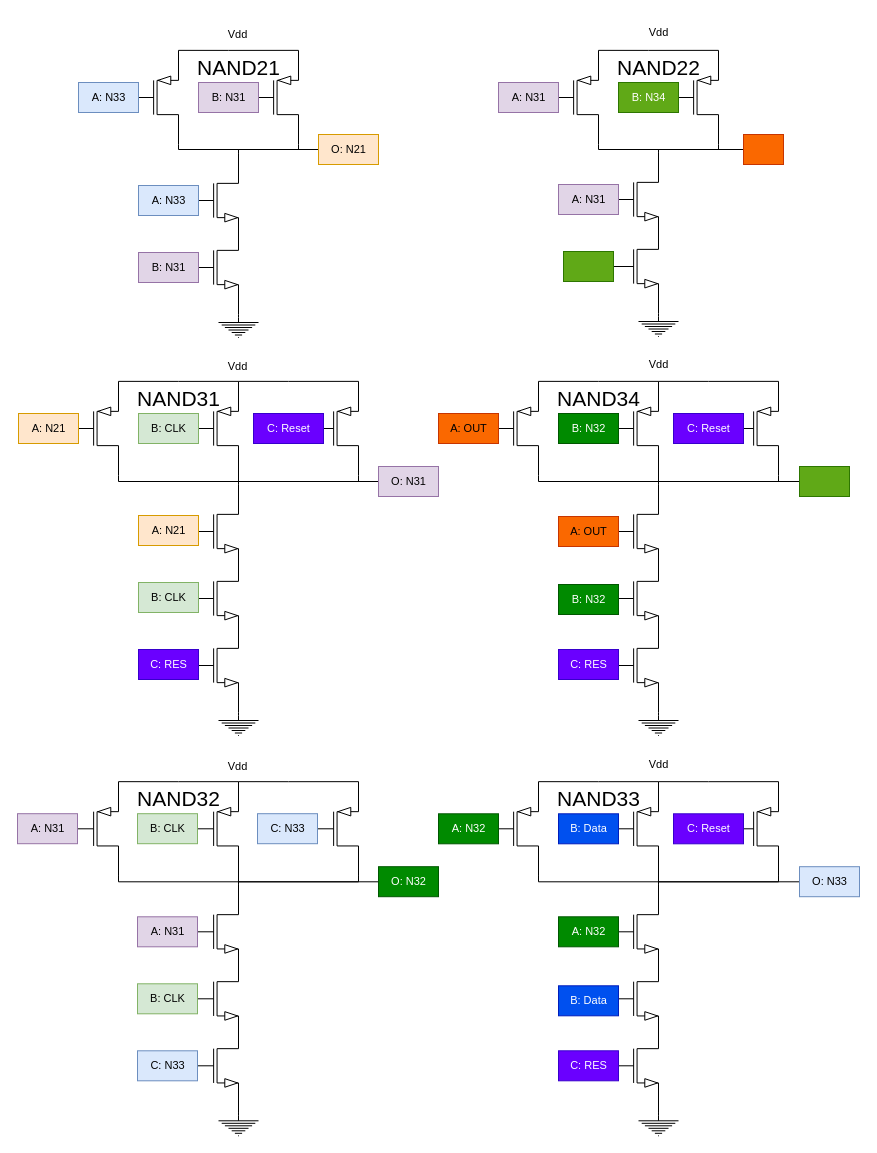
This 877x1153 diagram has some shape labels left out. The shapes that lost their labels are listed below. From the top down, each one's centre as x and y in pixels, then its label:
the point at 763,149: O:Q
the point at 588,266: B: Qn
the point at 824,481: O: Qn
